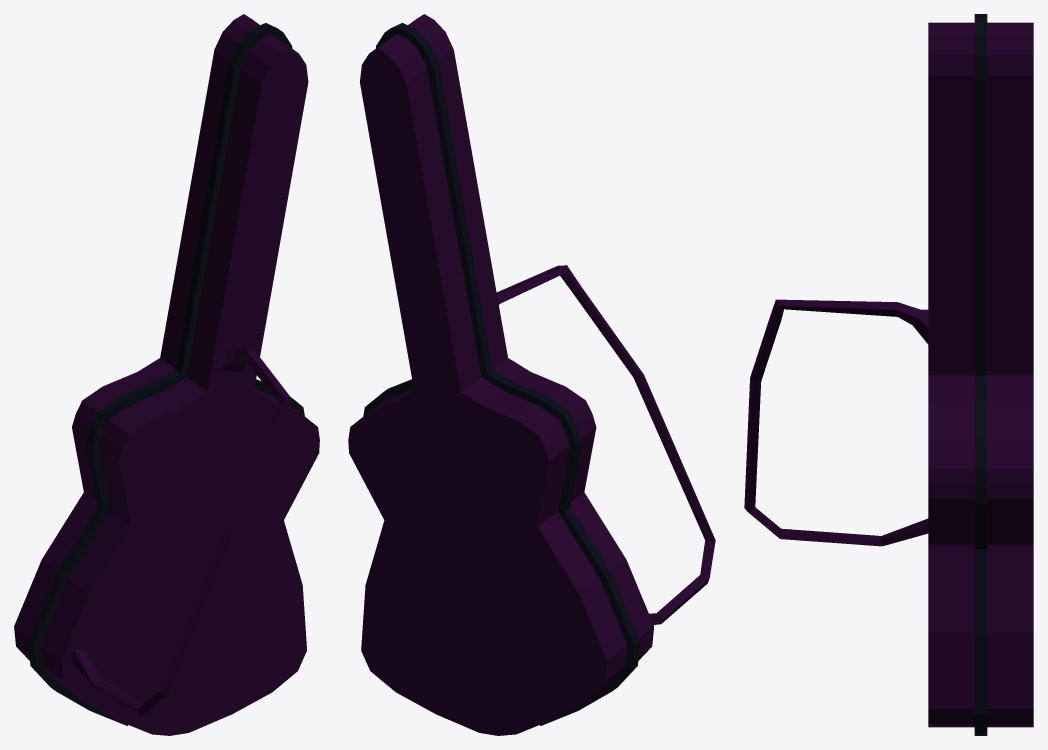
The model's file is Violao.fbx.
The picture shows the model from 3 angles, left to right: view 1: azimuth 30°, elevation 25°; view 2: azimuth 150°, elevation 25°; view 3: azimuth 270°, elevation 25°; orthographic projection. The views are drawn at different scales.
Visible parts, largest first — view 1: Violao; view 2: Violao; view 3: Violao.
Part boxes in pixels (x1=…): Violao: x1=14, y1=14, x2=319, y2=735; Violao: x1=348, y1=14, x2=715, y2=735; Violao: x1=744, y1=14, x2=1033, y2=735.
Bounding box in the file's own units: 0.5913 × 1.4 × 0.4878.
